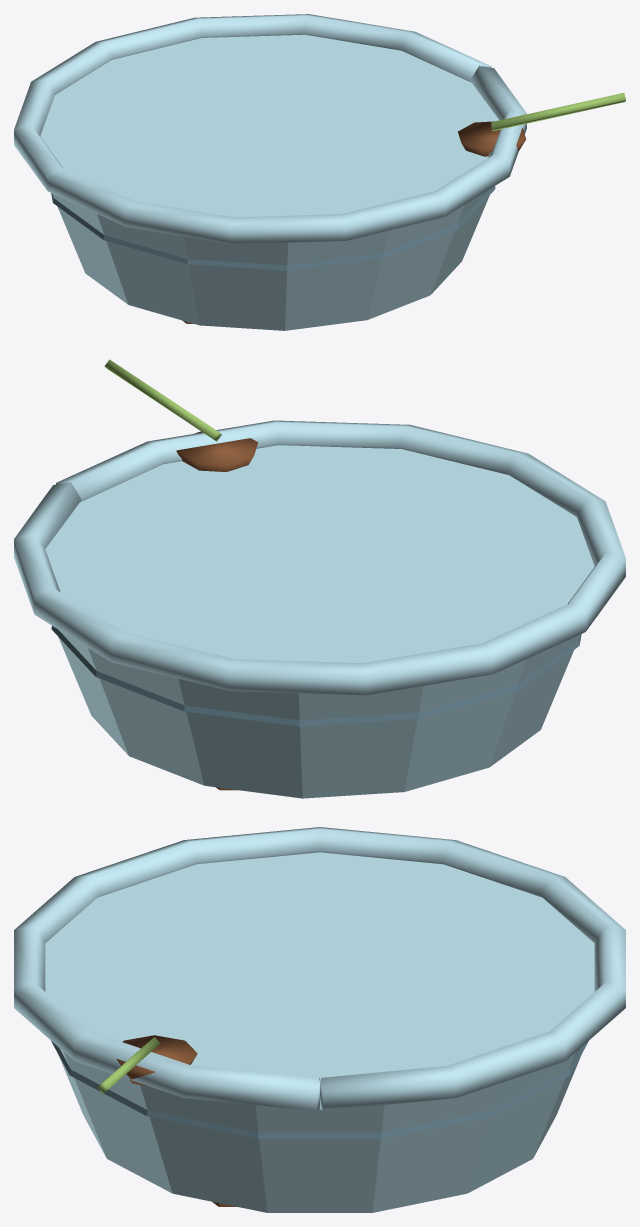
File: chau-tam.glb
3 views of the same model, one above another, from view 1: azimuth 30°, elevation 25°; view 2: azimuth 150°, elevation 25°; view 3: azimuth 270°, elevation 25° (orthographic). The views are drawn at different scales.
Parts seen in each view (by area): view 1: chau-tam-0, chau-tam-1, chau-tam-2, chau-tam-6, chau-tam-5; view 2: chau-tam-0, chau-tam-1, chau-tam-2, chau-tam-5, chau-tam-6; view 3: chau-tam-0, chau-tam-1, chau-tam-2, chau-tam-5, chau-tam-6.
Part boxes in pixels (x1=…): chau-tam-0: x1=40, y1=34, x2=498, y2=330; chau-tam-1: x1=14, y1=14, x2=526, y2=244; chau-tam-2: x1=51, y1=186, x2=495, y2=270; chau-tam-6: x1=491, y1=93, x2=625, y2=131; chau-tam-5: x1=458, y1=121, x2=526, y2=156; chau-tam-0: x1=45, y1=445, x2=594, y2=798; chau-tam-1: x1=14, y1=420, x2=625, y2=695; chau-tam-2: x1=51, y1=626, x2=581, y2=726; chau-tam-5: x1=176, y1=431, x2=258, y2=471; chau-tam-6: x1=104, y1=359, x2=221, y2=441; chau-tam-0: x1=45, y1=852, x2=594, y2=1212; chau-tam-1: x1=14, y1=827, x2=625, y2=1110; chau-tam-2: x1=51, y1=1041, x2=588, y2=1138; chau-tam-5: x1=116, y1=1035, x2=197, y2=1086; chau-tam-6: x1=97, y1=1037, x2=160, y2=1093.
Bounding box in the file's own units: 1.75 × 0.5758 × 1.55.
